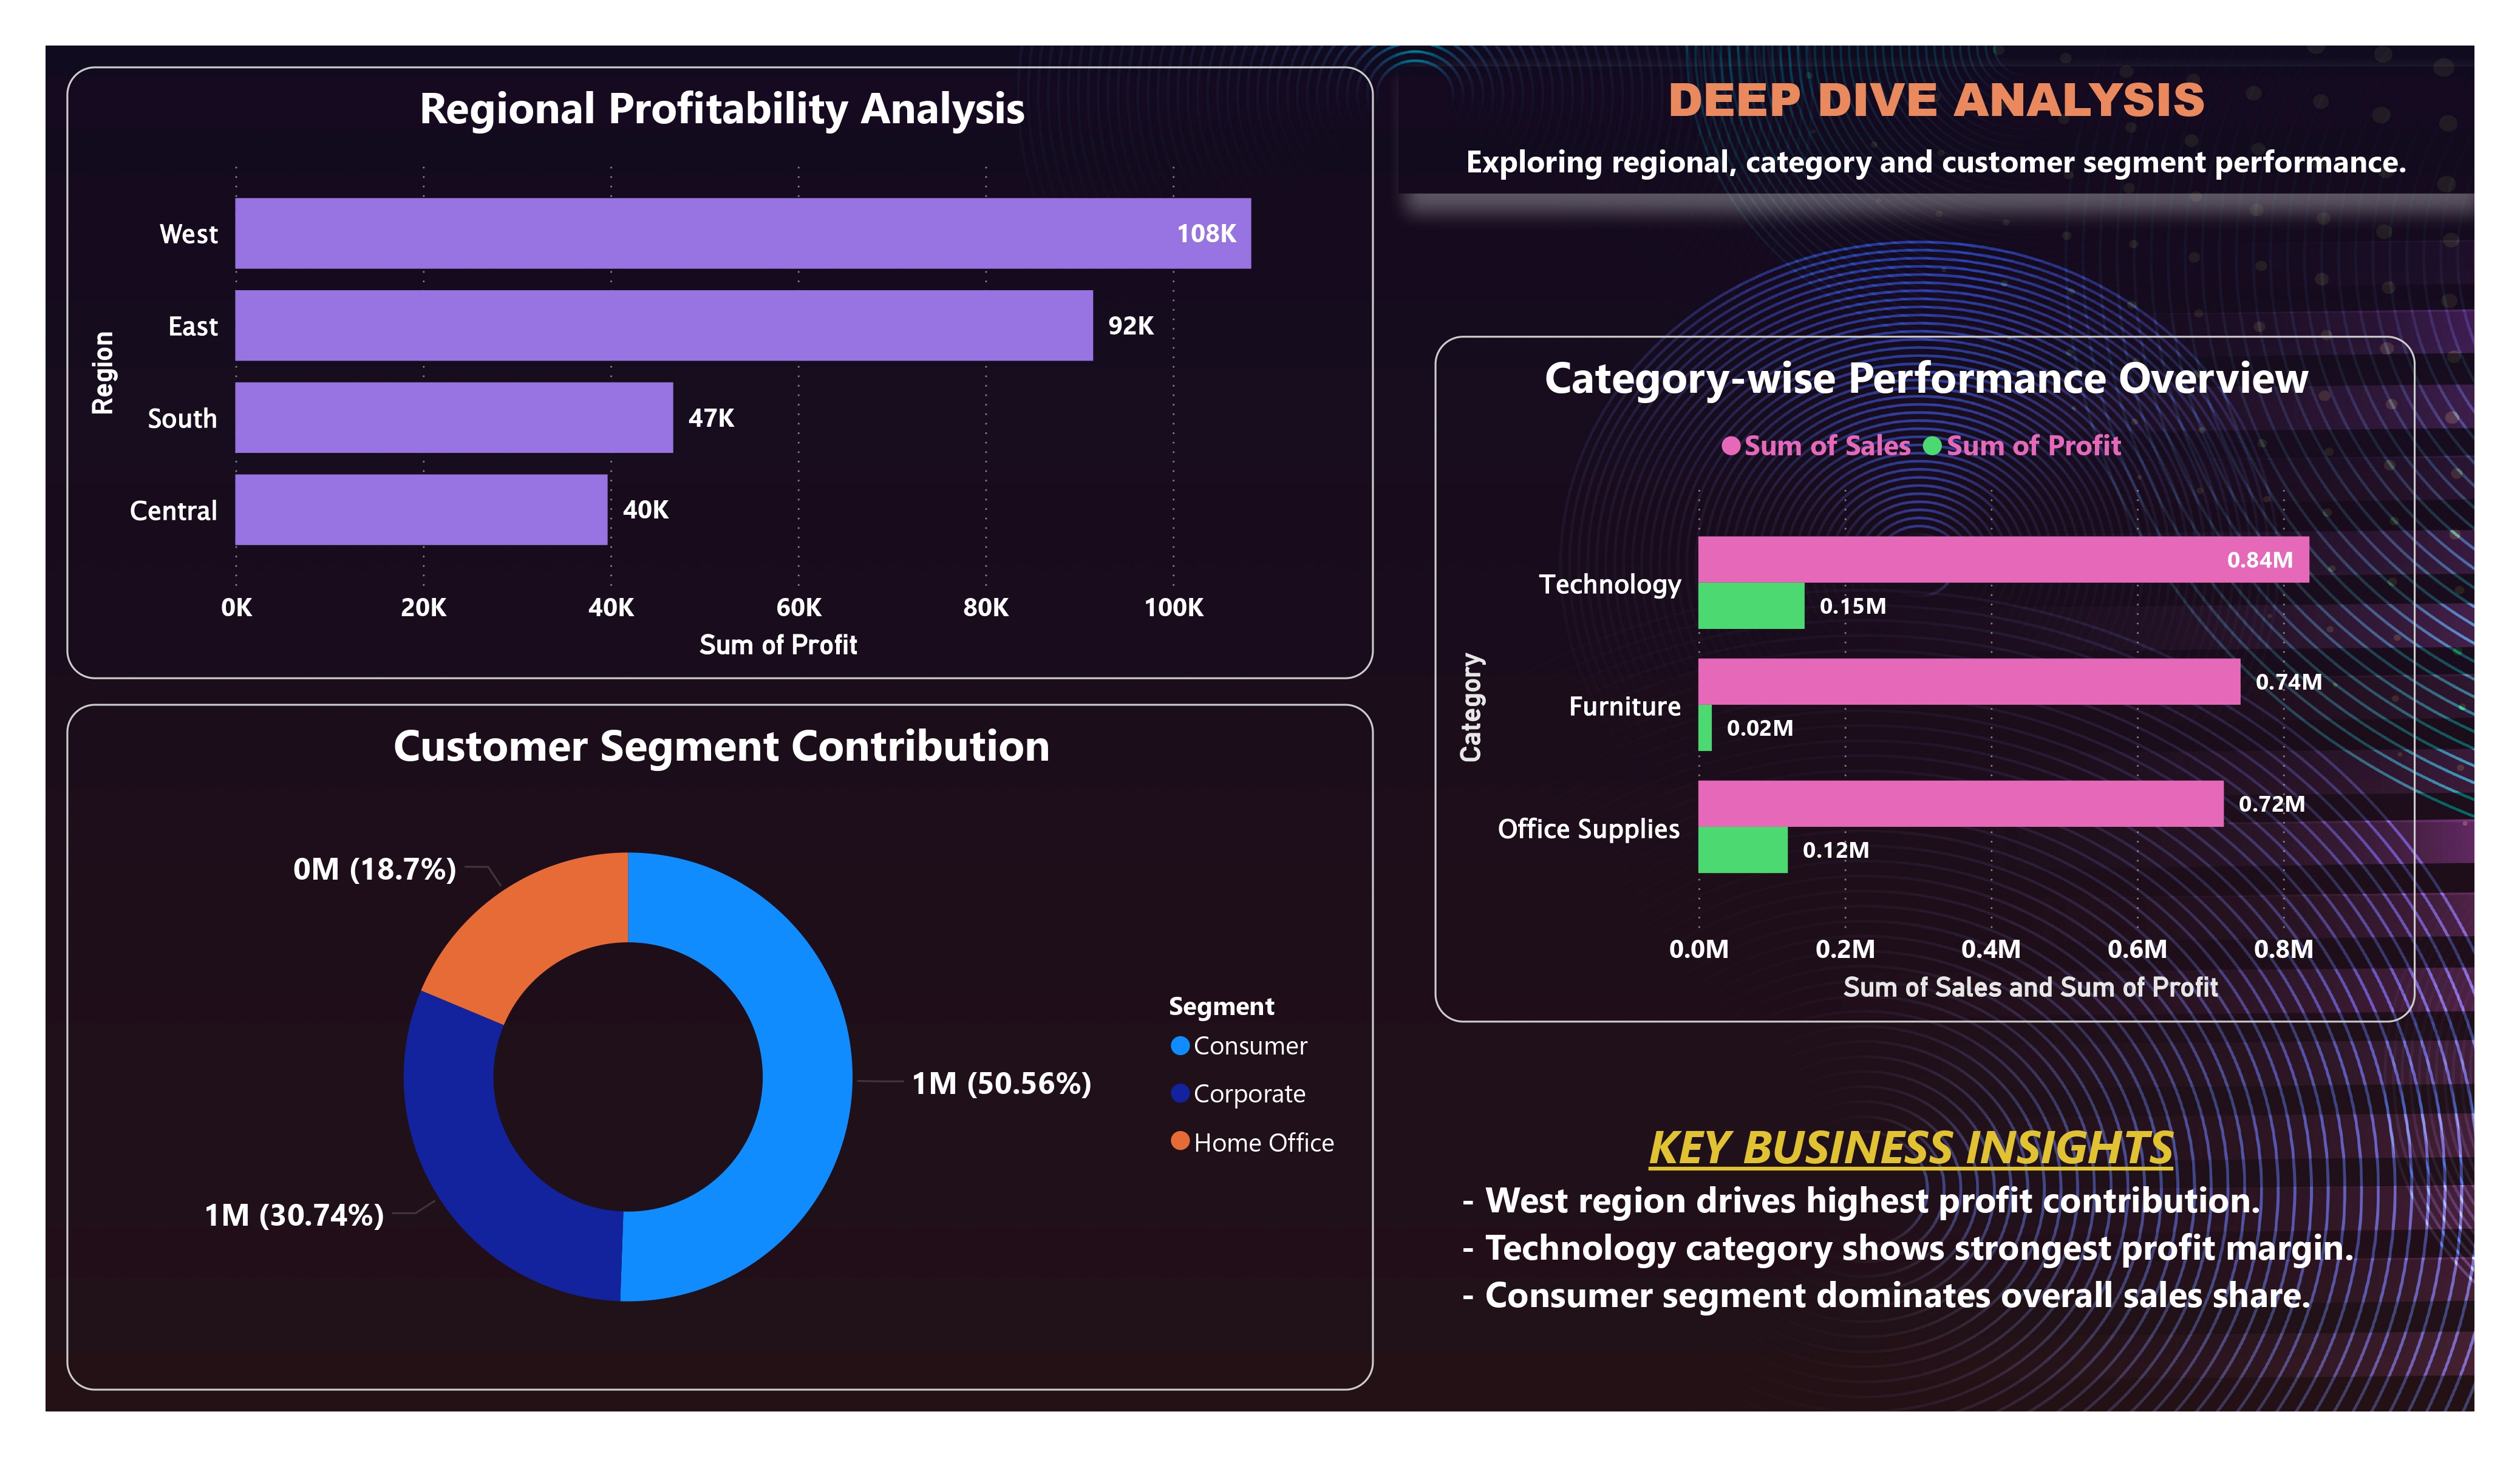

The dashboard page shown, as its layout file describes it:
{"tool":"powerbi","page":{"name":"Page 2","canvas":[1280,720],"ordinal":1},"visuals":[{"type":"barChart","title":"Regional Profitability Analysis","fields":{"Y":["Sum(Sales.Profit)"],"Category":["Sales.Region"]},"box":[11.1,11.1,688.7,322.9],"z":0},{"type":"donutChart","title":"Customer Segment Contribution","fields":{"Category":["Sales.Segment"],"Y":["Sum(Sales.Sales)"]},"box":[11.1,346.8,688.7,362.7],"z":1000},{"type":"clusteredBarChart","title":"Category-wise Performance Overview","fields":{"Category":["Sales.Category"],"Y":["Sum(Sales.Sales)","Sum(Sales.Profit)"]},"box":[731.7,152.7,516.9,362.7],"z":2000},{"type":"textbox","title":"DEEP DIVE ANALYSIS","box":[712.6,11.1,567.8,66.8],"z":3000},{"type":"textbox","box":[741.2,558.3,483.5,151.1],"z":4000}]}

Visuals, with their boxes in screenshot pixels (x1, y1, x2, y2):
"Regional Profitability Analysis" barChart: x1=41, y1=41, x2=1378, y2=668
"Customer Segment Contribution" donutChart: x1=41, y1=693, x2=1378, y2=1397
"Category-wise Performance Overview" clusteredBarChart: x1=1440, y1=316, x2=2444, y2=1020
"DEEP DIVE ANALYSIS" textbox: x1=1403, y1=41, x2=2505, y2=171
textbox: x1=1459, y1=1104, x2=2397, y2=1397
